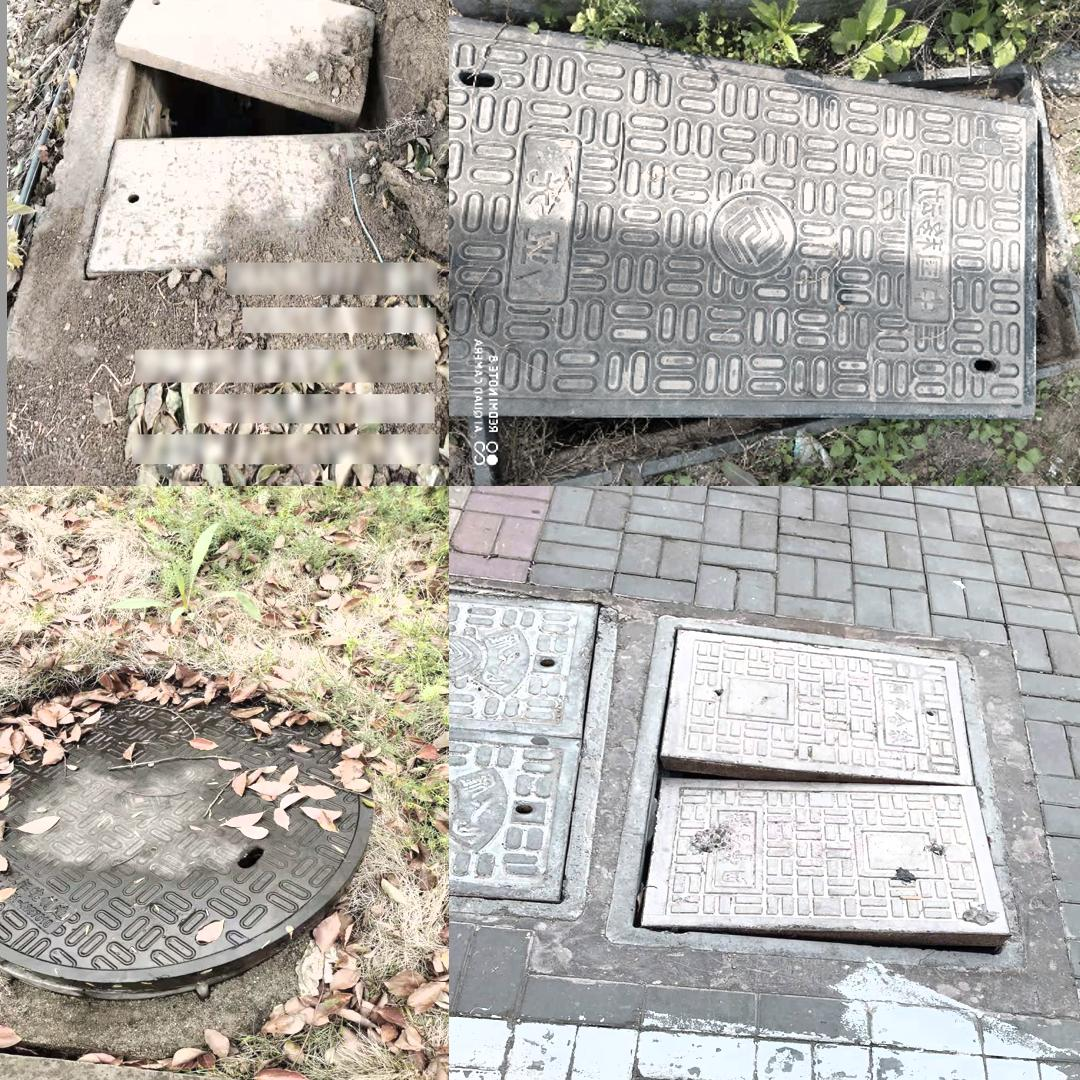good: (456, 581, 623, 923)
uncovered: (449, 13, 1080, 480), (6, 0, 427, 377), (604, 613, 1022, 962), (0, 670, 371, 998)
